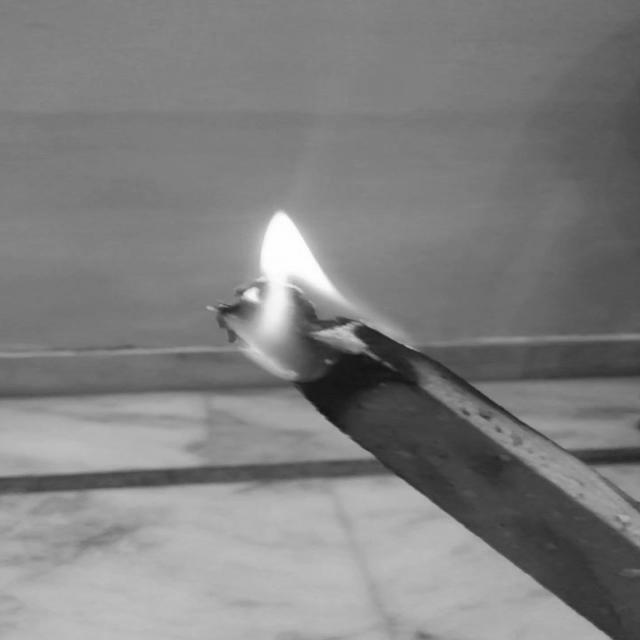smoke: (188, 206, 410, 383)
